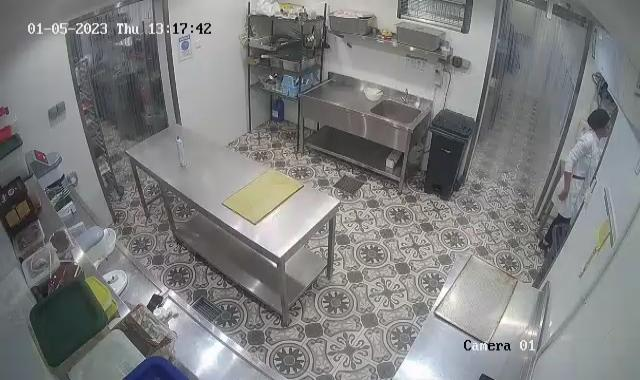no_hairnet: (586, 107, 609, 134)
